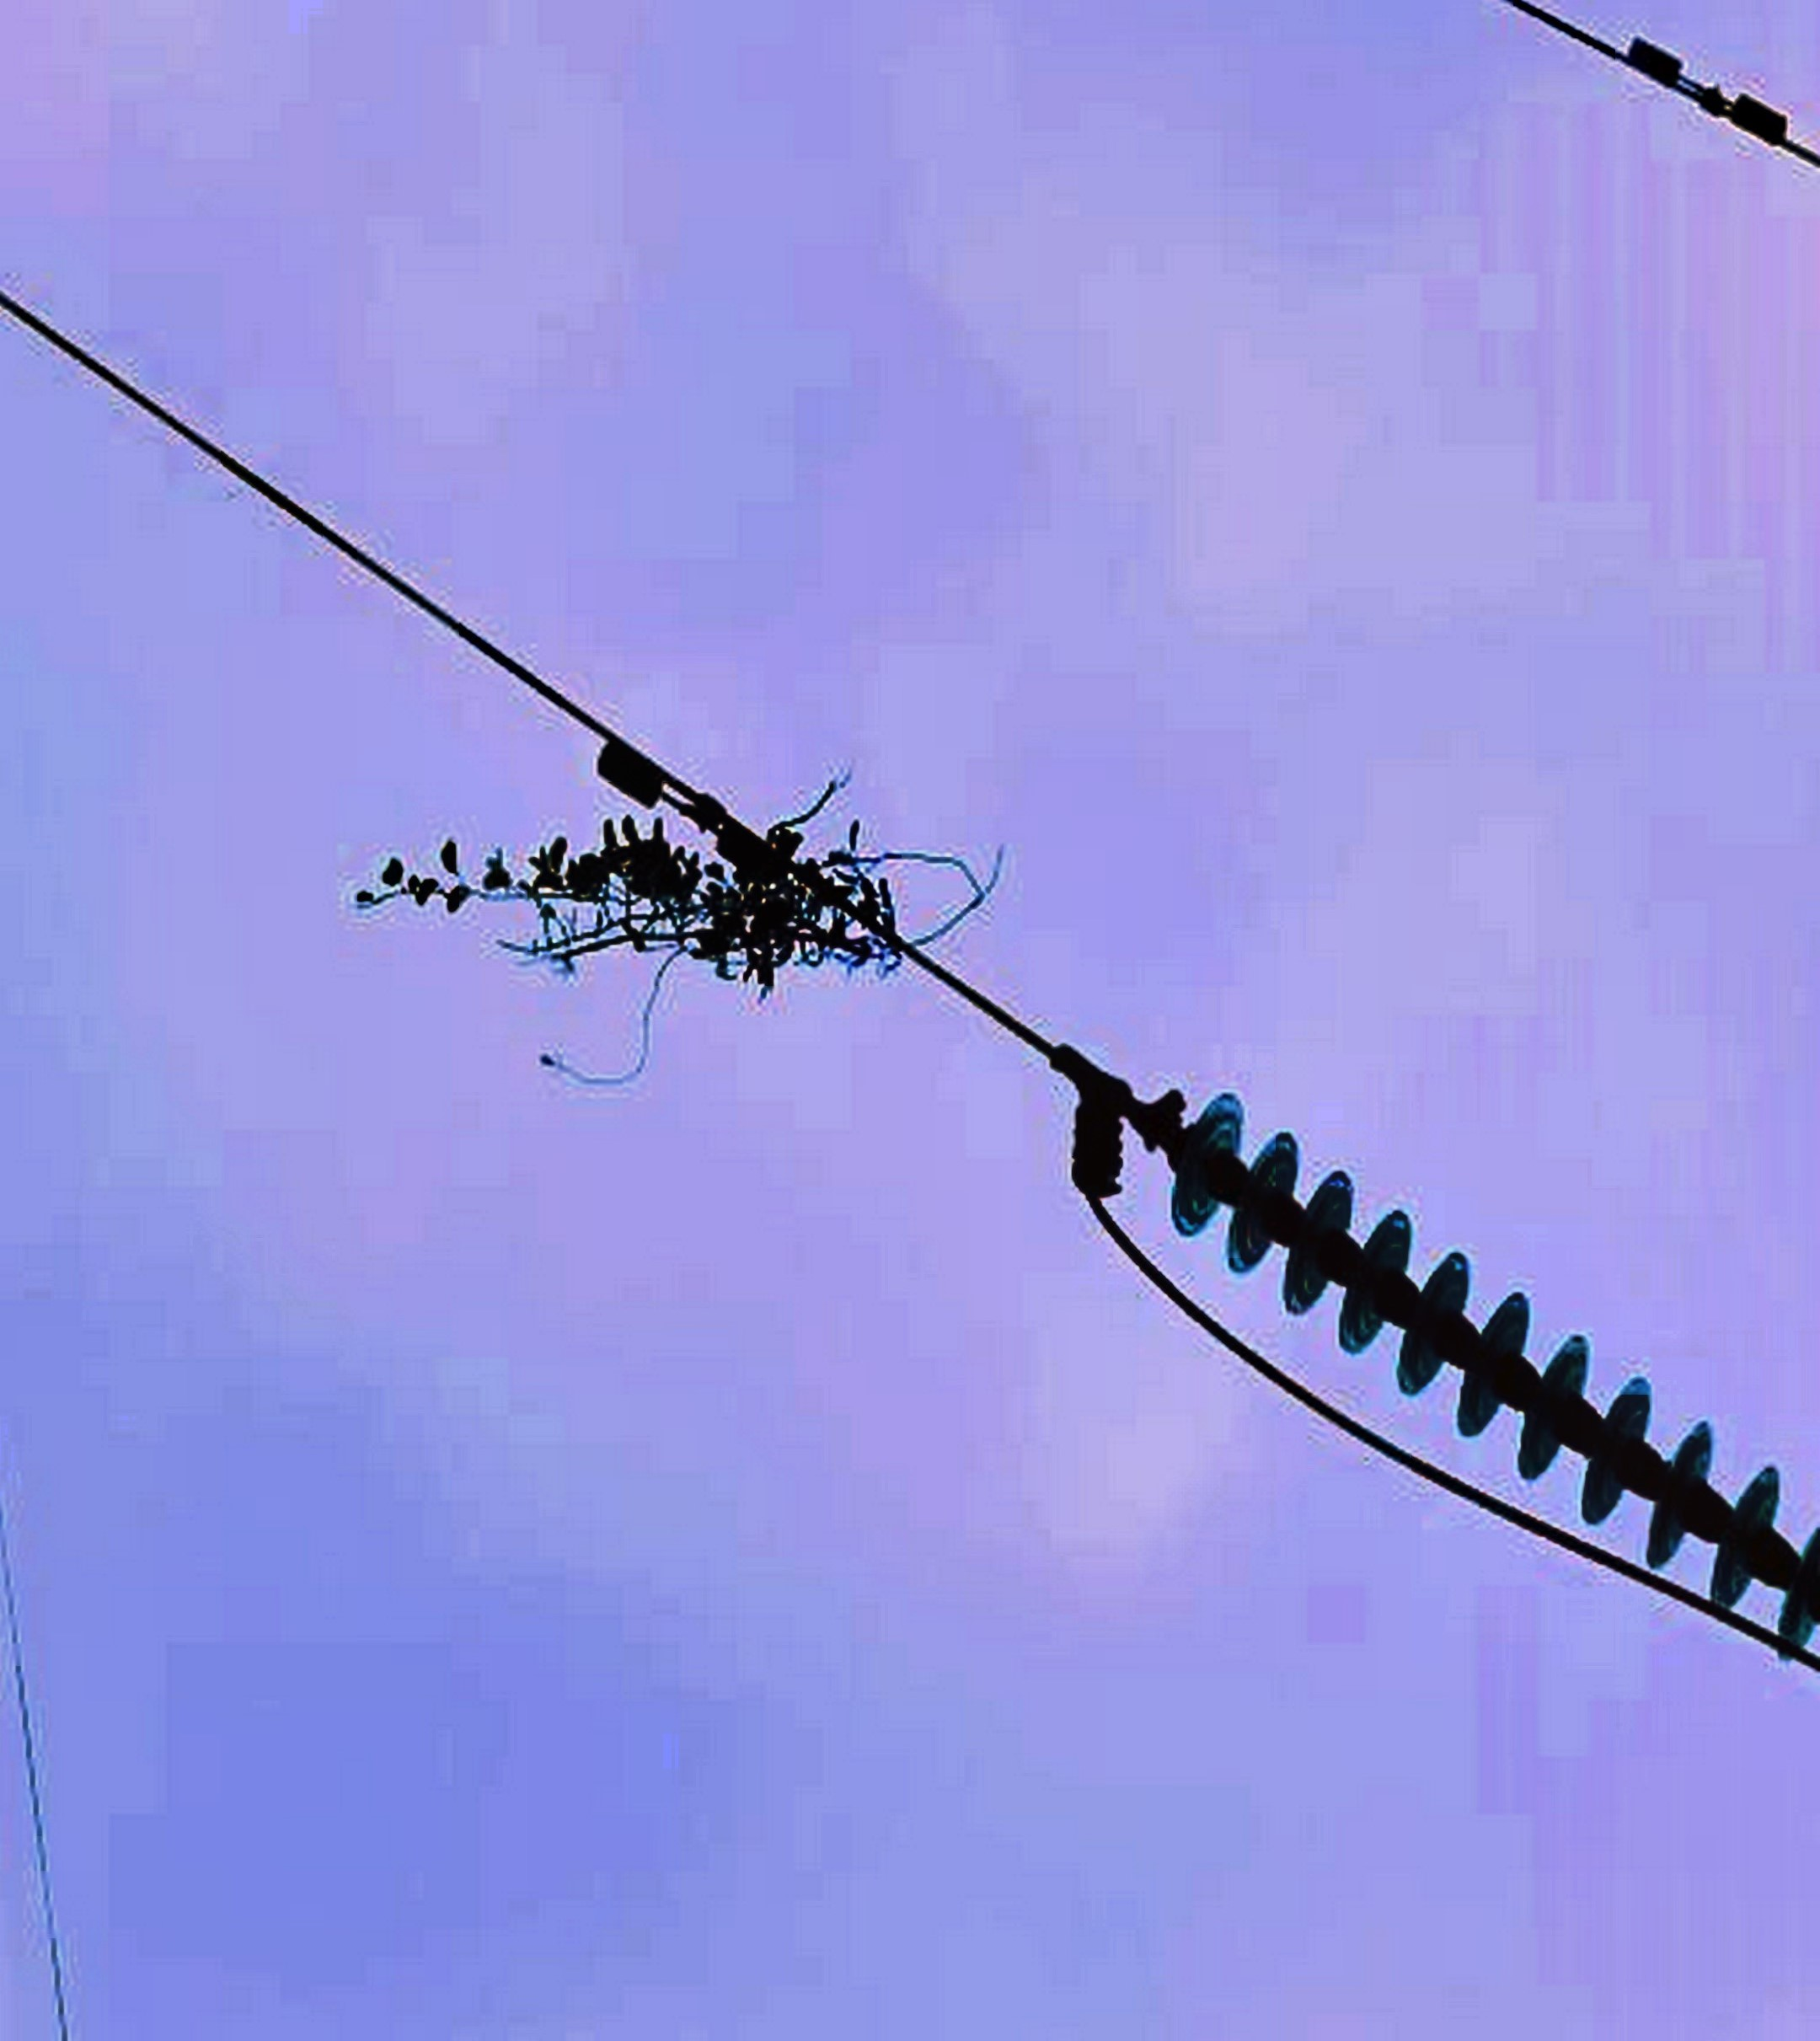wire foreign body: (355, 771, 998, 1121)
